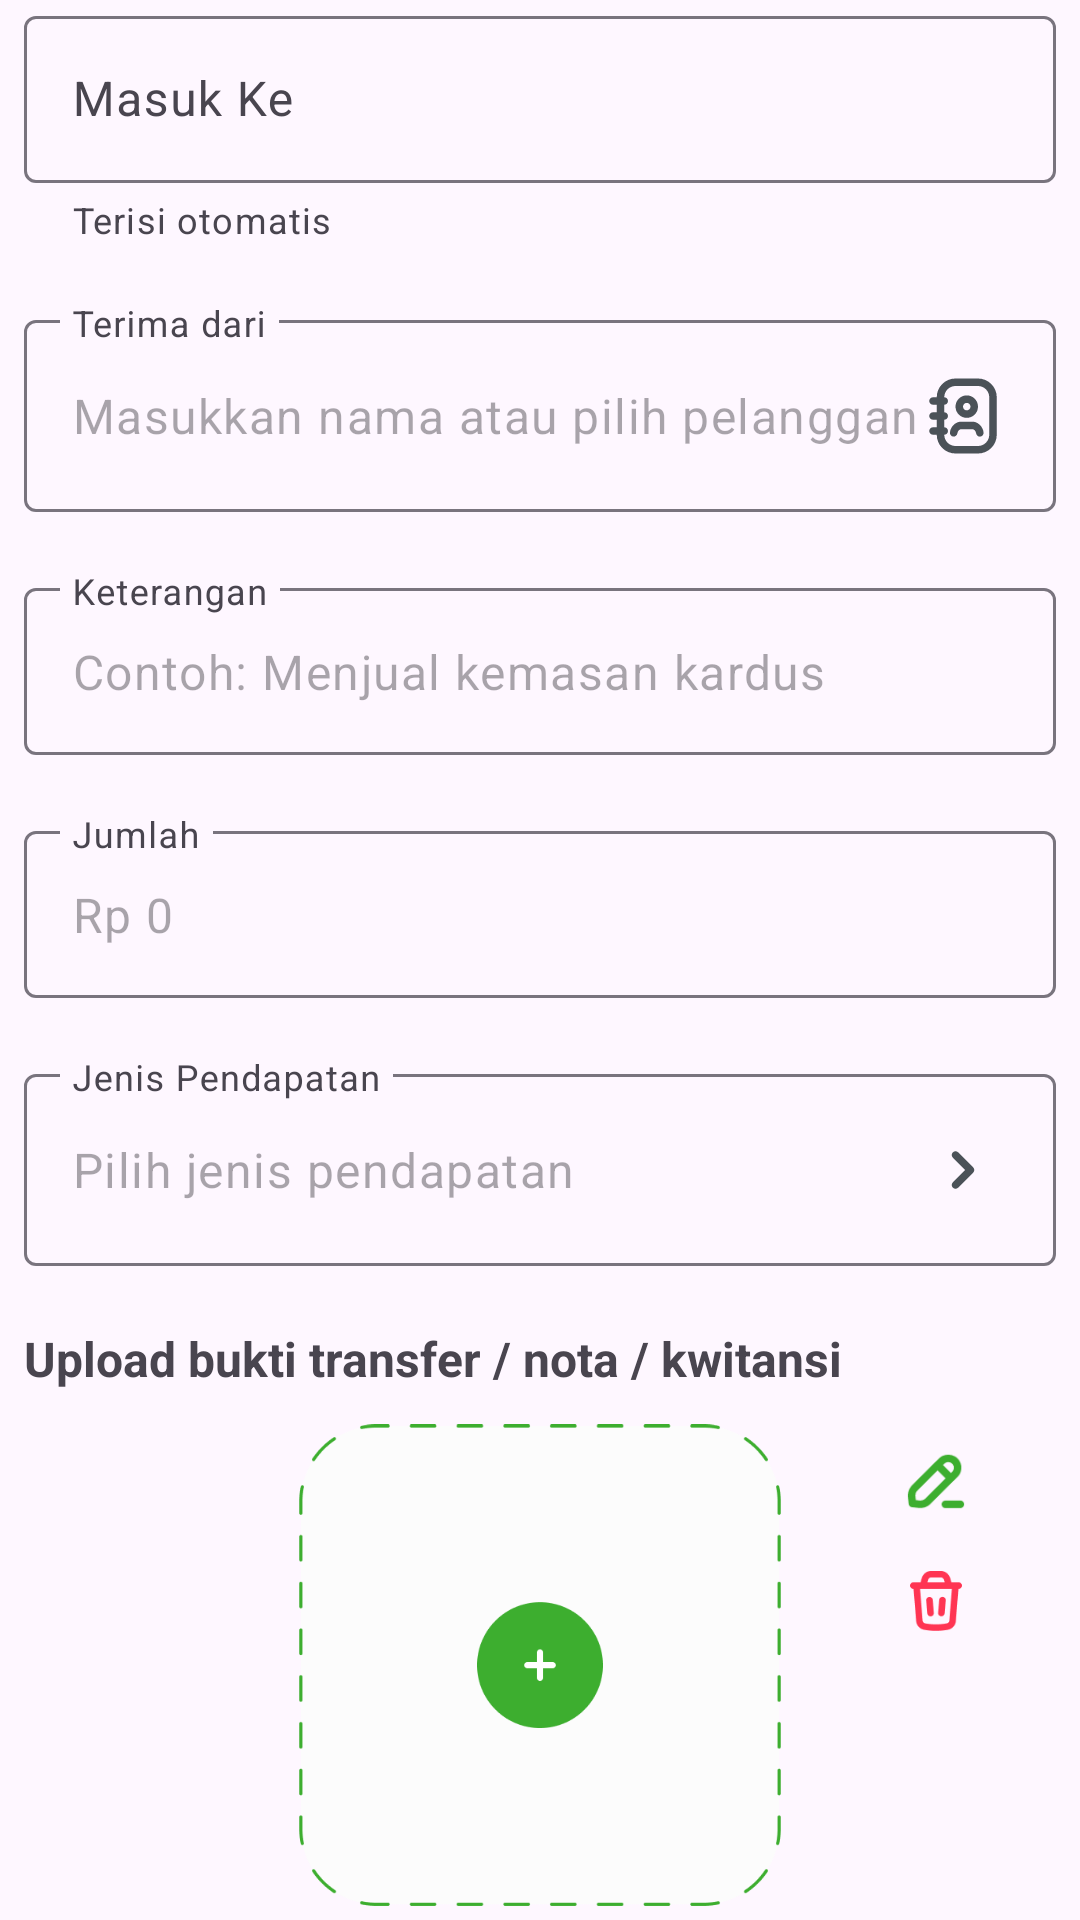

Screen size 1080*1920. Icon name, then its box in pixels as (x1, y1, x2, y2):
delete: (910, 1571, 962, 1631)
edit: (908, 1454, 964, 1509)
